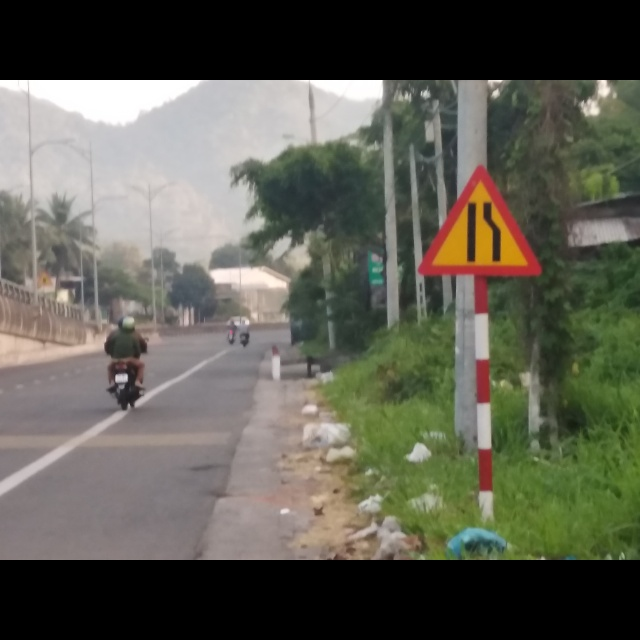Đường bị hẹp bên phải: (418, 162, 545, 278)
